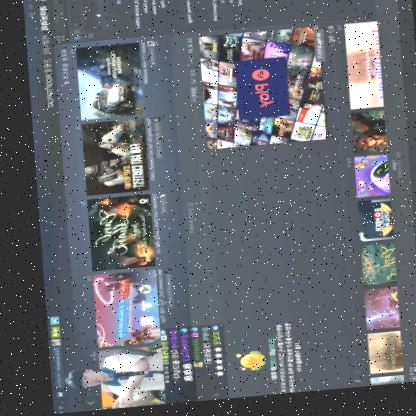streamer: (56, 351, 159, 414)
